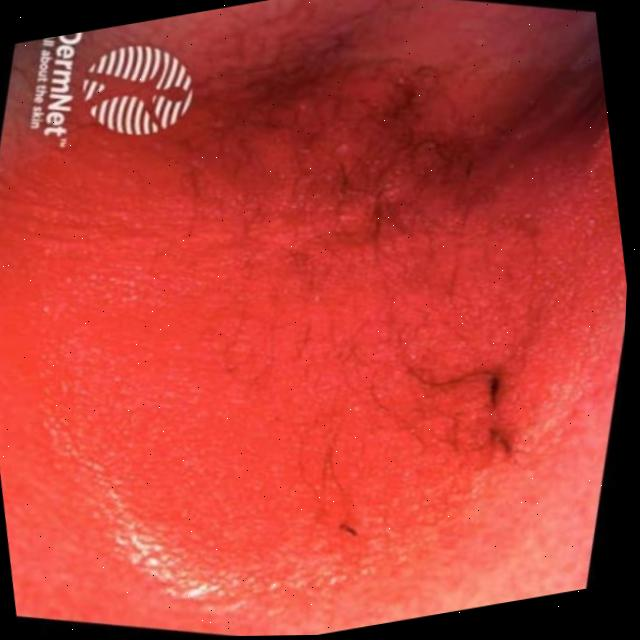Eczema: (22, 42, 607, 596)
